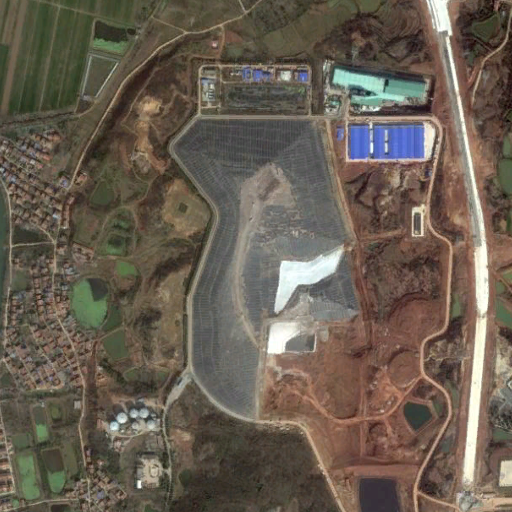lf: (170, 111, 350, 423)
